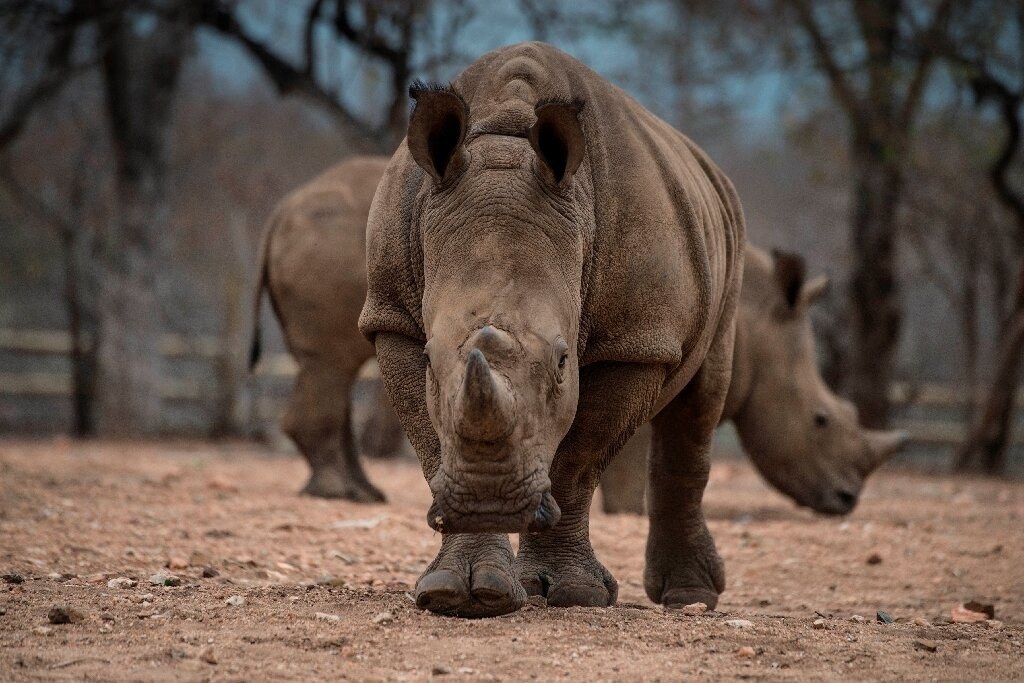rhino: (248, 149, 919, 537), (360, 38, 735, 619)
